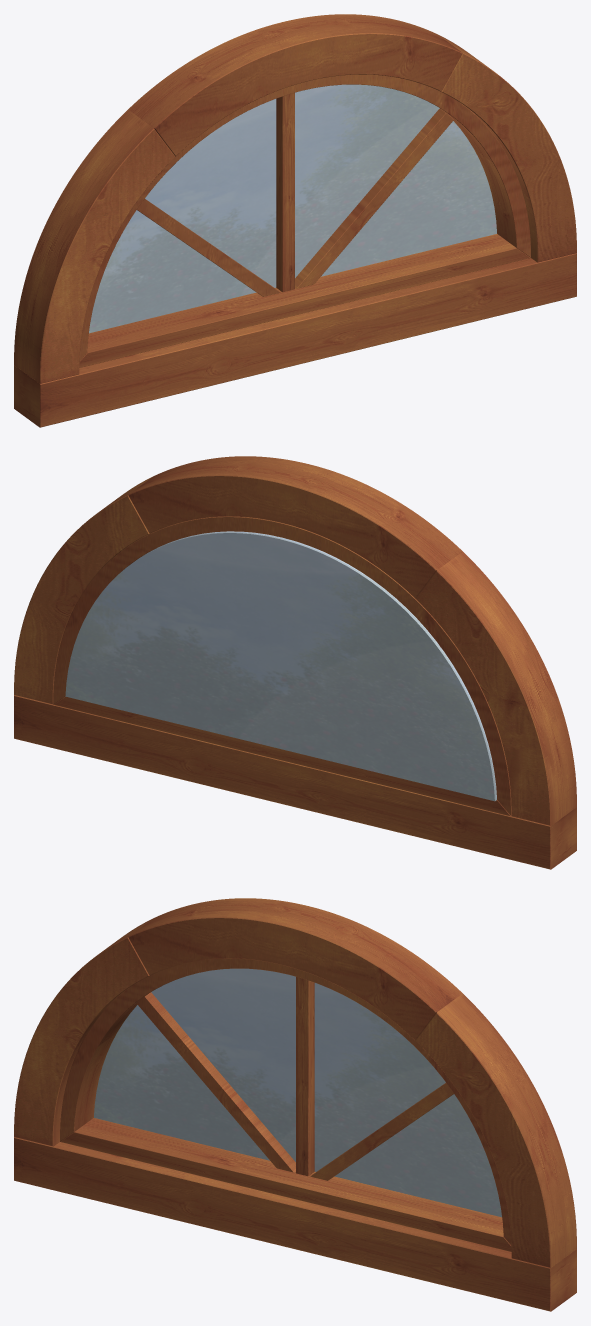
3 views of the same model, one above another, from view 1: azimuth 30°, elevation 25°; view 2: azimuth 150°, elevation 25°; view 3: azimuth 330°, elevation 25° (orthographic).
Visible parts, largest first — view 1: glass, trim_bottom, trim_top, trim_left, window_bottom, trim_right, window, muttin003, muttin002, muttin001; view 2: glass, trim_bottom, trim_top, trim_left, window, trim_right, window_bottom; view 3: glass, trim_bottom, trim_top, trim_right, window_bottom, trim_left, window, muttin001, muttin002, muttin003.
Boxes of the visible parts, x1,y1,x2,y2 form: glass: (89,84,496,333); trim_bottom: (14,253,576,427); trim_top: (128,14,462,156); trim_left: (14,109,175,383); window_bottom: (79,234,530,367); trim_right: (438,34,576,262); window: (79,74,530,361); muttin003: (295,108,453,288); muttin002: (276,93,294,292); muttin001: (137,199,280,296); glass: (65,531,496,801); trim_bottom: (14,695,576,869); trim_top: (128,456,462,598); trim_left: (415,551,576,825); window: (53,516,511,816); trim_right: (14,476,152,704); window_bottom: (53,696,510,816); glass: (94,968,501,1217); trim_bottom: (14,1137,576,1311); trim_top: (128,898,462,1040); trim_right: (415,993,576,1267); window_bottom: (60,1118,511,1251); trim_left: (14,918,152,1146); window: (60,958,511,1245); muttin001: (137,992,295,1172); muttin002: (296,977,314,1176); muttin003: (310,1083,453,1180).
Bounding box in the file's own units: 28.2 × 16.11 × 2.6.
5 materials, 5 textured.
